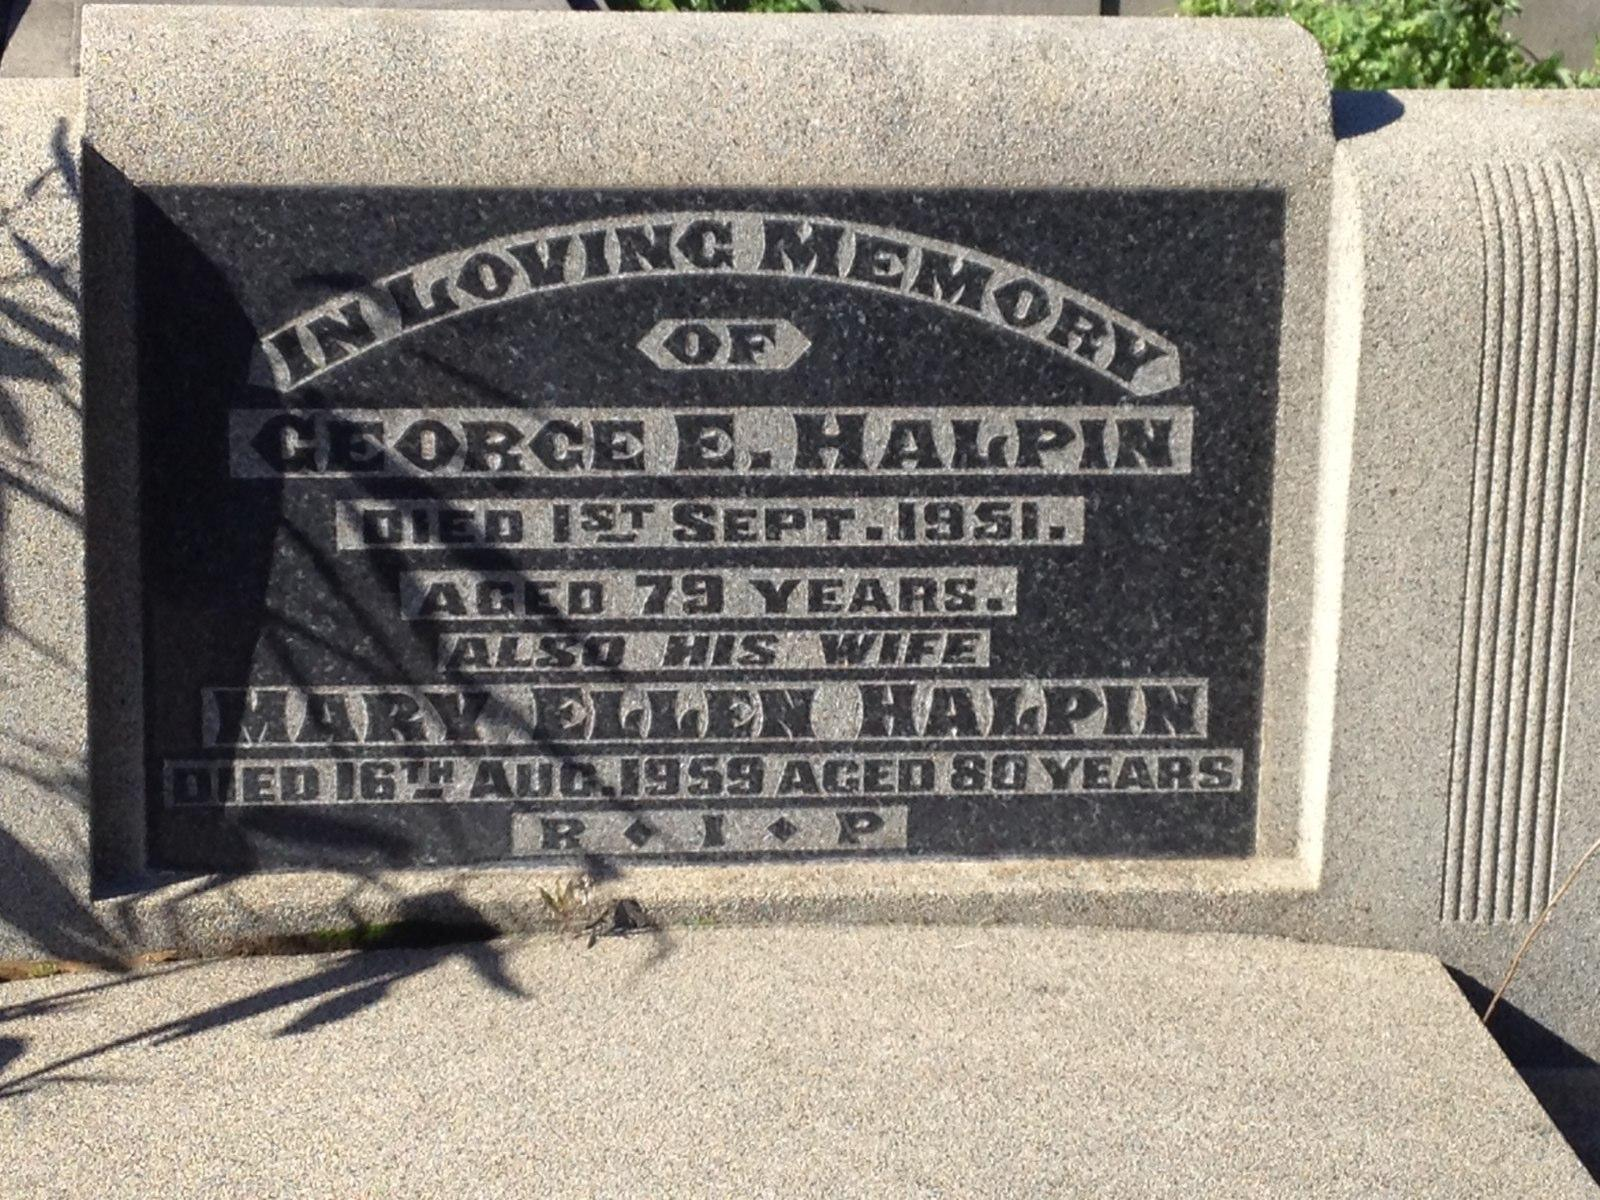upright: (77, 3, 1419, 1189)
